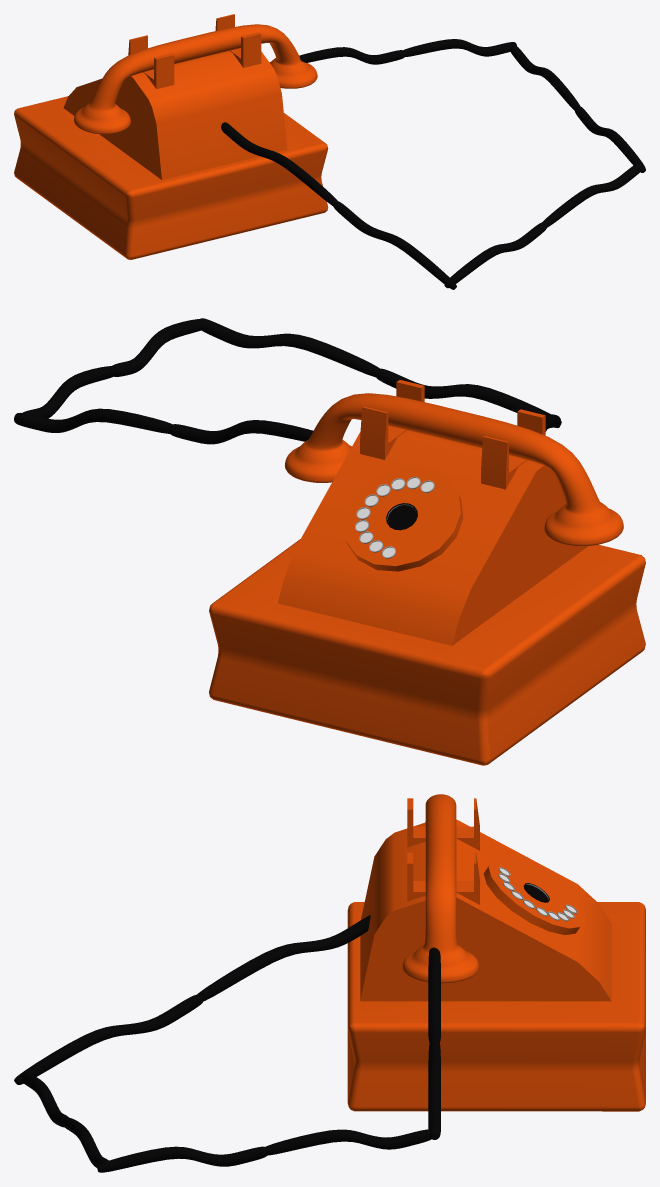
Rendered from retro_rotary_phone.fbx.
3 renders of one model, top to bottom at view 1: azimuth 30°, elevation 25°; view 2: azimuth 150°, elevation 25°; view 3: azimuth 270°, elevation 25°, orthographic. The views are drawn at different scales.
Parts seen in each view (by area): view 1: pCube79, pSphere55, pCylinder72, pCylinder63, pCylinder70, pCylinder71, pCylinder68, pCube81, pCylinder73, pCube80, pCylinder69, pCylinder64; view 2: pCube79, pSphere55, pCylinder51, pCylinder70, pCylinder68, pCube81, pCube80, pCylinder73, pCylinder71, pCylinder64, pCylinder69; view 3: pCube79, pSphere55, pCylinder51, pCylinder72, pCylinder63, pCylinder64, pCylinder69, pCylinder68, pCylinder73, pCube81, pCube80, pCylinder71 (+1 smaller).
Boxes of the visible parts, x1=… form: pCube79: x1=14, y1=51, x2=328, y2=259; pSphere55: x1=73, y1=24, x2=317, y2=134; pCylinder72: x1=333, y1=201, x2=456, y2=289; pCylinder63: x1=221, y1=122, x2=337, y2=205; pCylinder70: x1=542, y1=162, x2=642, y2=227; pCylinder71: x1=444, y1=222, x2=546, y2=288; pCylinder68: x1=403, y1=39, x2=516, y2=56; pCube81: x1=128, y1=35, x2=174, y2=88; pCylinder73: x1=299, y1=47, x2=405, y2=64; pCube80: x1=215, y1=14, x2=261, y2=67; pCylinder69: x1=510, y1=45, x2=579, y2=110; pCylinder64: x1=574, y1=106, x2=645, y2=172; pCube79: x1=209, y1=430, x2=645, y2=765; pSphere55: x1=284, y1=393, x2=623, y2=546; pCylinder51: x1=343, y1=468, x2=463, y2=571; pCylinder70: x1=200, y1=318, x2=379, y2=377; pCylinder68: x1=14, y1=408, x2=172, y2=433; pCube81: x1=481, y1=409, x2=545, y2=489; pCube80: x1=360, y1=380, x2=424, y2=459; pCylinder73: x1=169, y1=420, x2=313, y2=444; pCylinder71: x1=376, y1=368, x2=561, y2=427; pCylinder64: x1=112, y1=319, x2=203, y2=376; pCylinder69: x1=22, y1=366, x2=117, y2=418; pCube79: x1=347, y1=819, x2=645, y2=1111; pSphere55: x1=402, y1=794, x2=479, y2=983; pCylinder51: x1=483, y1=858, x2=584, y2=934; pCylinder72: x1=14, y1=994, x2=203, y2=1084; pCylinder63: x1=197, y1=915, x2=370, y2=1001; pCylinder64: x1=97, y1=1146, x2=267, y2=1172; pCylinder69: x1=265, y1=1129, x2=431, y2=1155; pCylinder68: x1=428, y1=1038, x2=440, y2=1139; pCylinder73: x1=428, y1=947, x2=440, y2=1042; pCube81: x1=407, y1=798, x2=479, y2=850; pCube80: x1=407, y1=852, x2=479, y2=904; pCylinder71: x1=21, y1=1073, x2=68, y2=1127.
Bounding box in the file's own units: 50.07 × 19.12 × 49.36.
